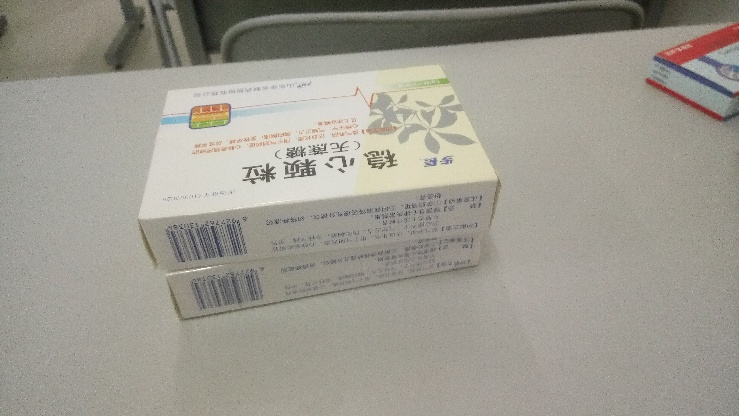pillbox: (143, 68, 490, 244), (166, 243, 485, 319)
